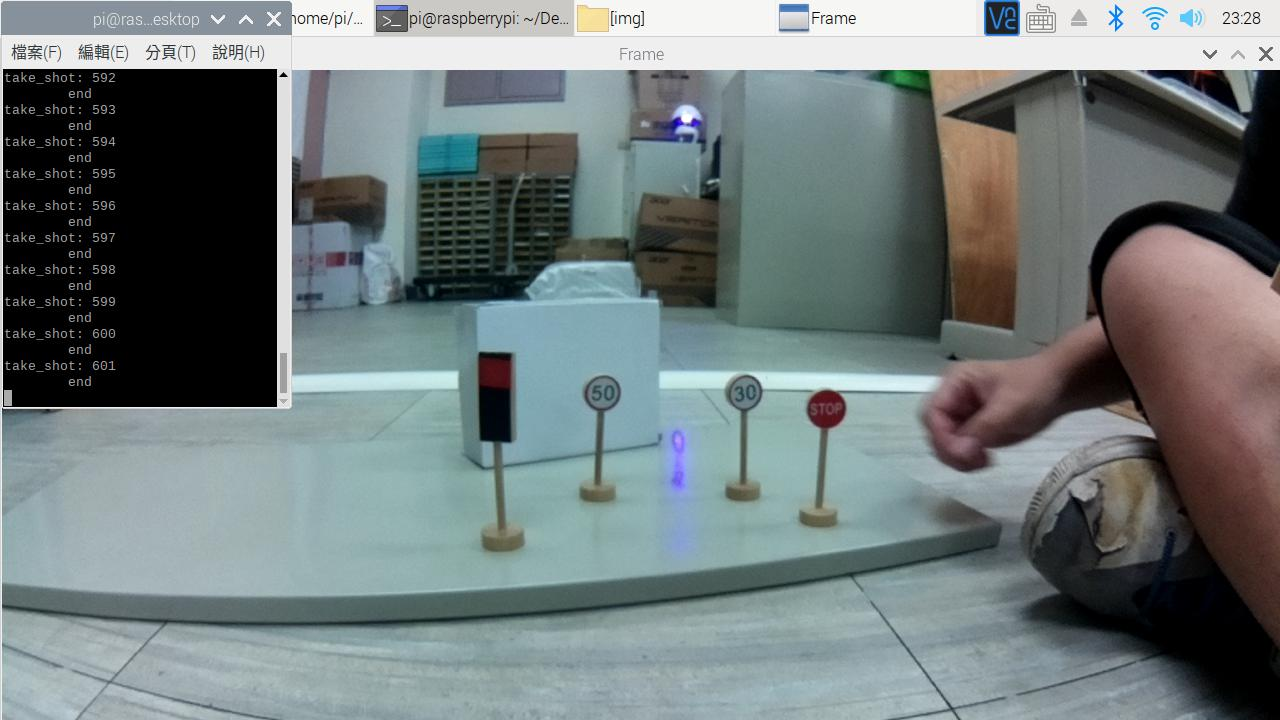Red: (466, 343, 526, 460)
Speed30: (707, 364, 785, 424)
Speed50: (573, 369, 629, 421)
Stop: (807, 383, 859, 443)
